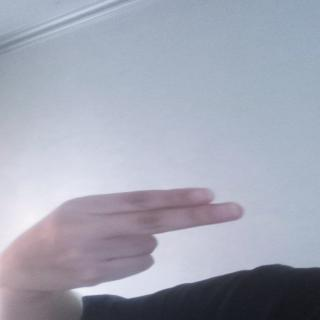AYN: (8, 179, 250, 300)
